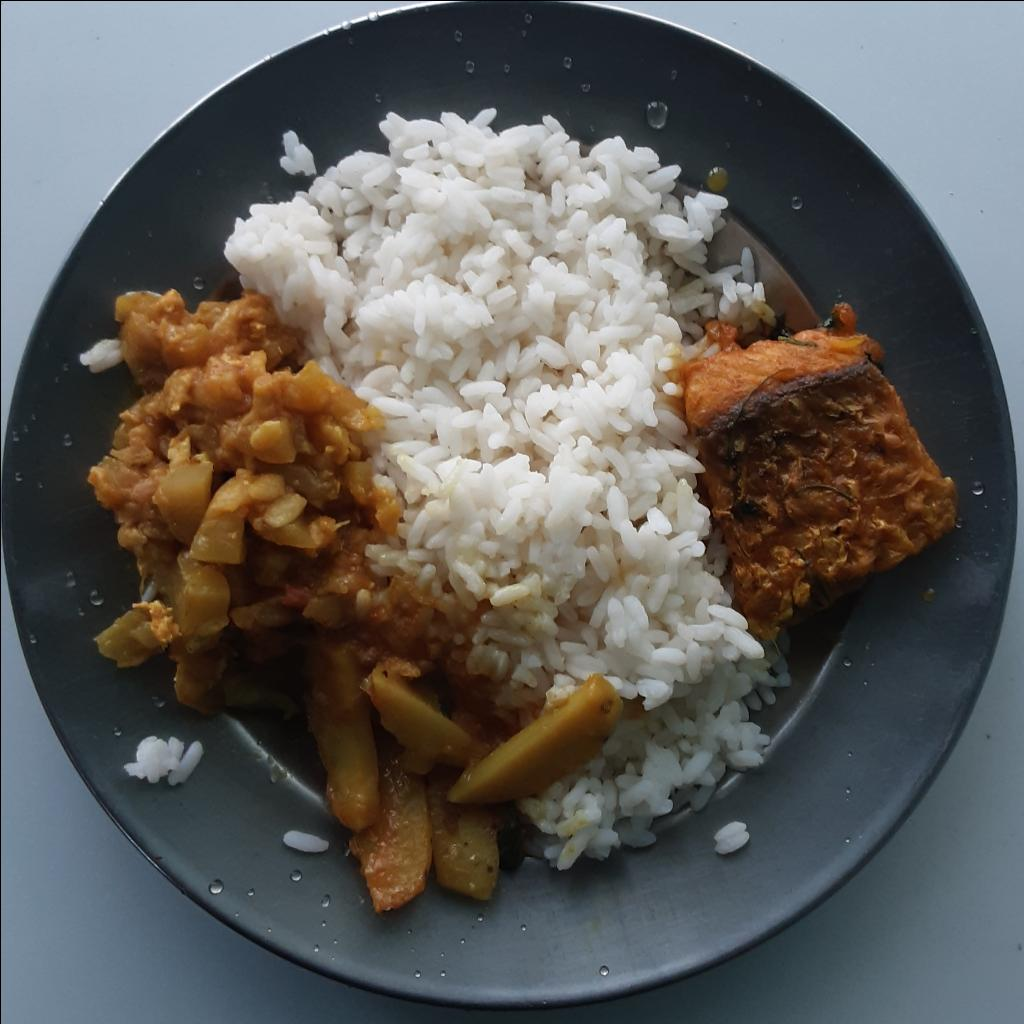fish: (684, 305, 963, 640)
lau: (75, 285, 406, 707)
potato: (220, 622, 618, 914)
rice: (220, 90, 793, 867)
